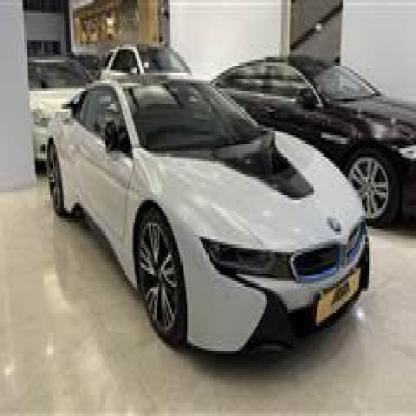Car: (33, 55, 362, 382), (208, 44, 416, 258), (5, 44, 106, 156), (104, 18, 185, 96)
